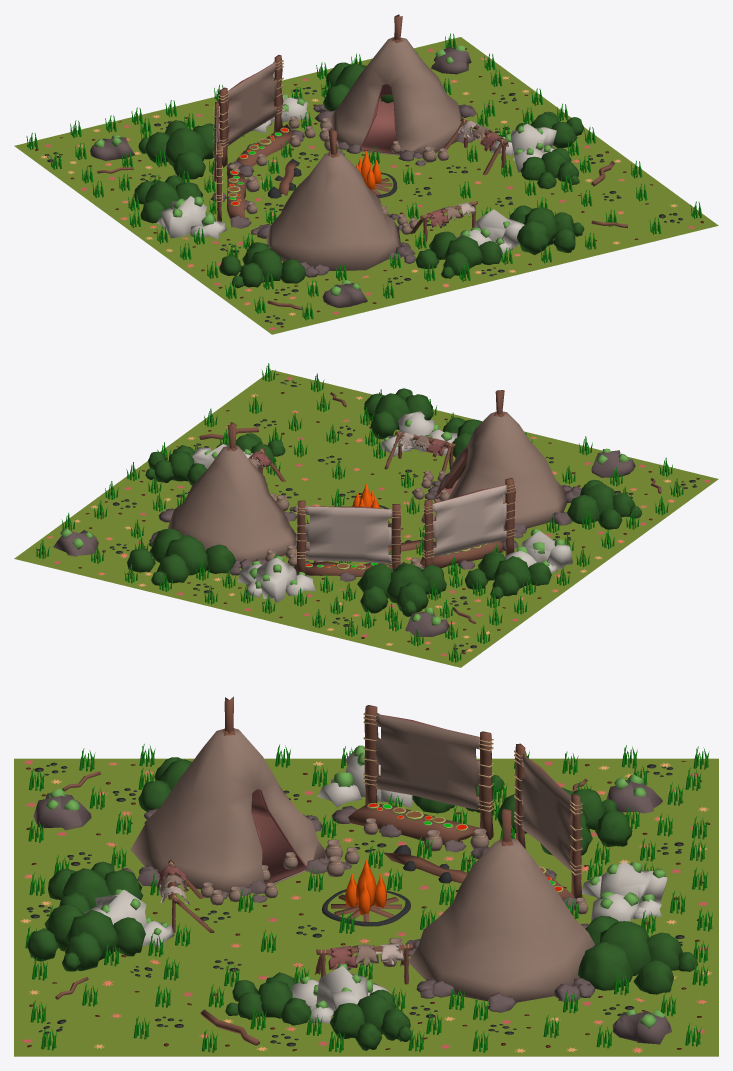
Rendered from grassland_hide_tents.glb.
3 views of the same model, one above another, from view 1: azimuth 30°, elevation 25°; view 2: azimuth 150°, elevation 25°; view 3: azimuth 270°, elevation 25° (orthographic). The views are drawn at different scales.
Visible parts, largest first — view 1: FlatGrass_Tile0.5x0.5; view 2: FlatGrass_Tile0.5x0.5; view 3: FlatGrass_Tile0.5x0.5.
Boxes of the visible parts, x1,y1,x2,y2 form: FlatGrass_Tile0.5x0.5: [14, 14, 718, 334]; FlatGrass_Tile0.5x0.5: [14, 363, 718, 667]; FlatGrass_Tile0.5x0.5: [14, 696, 718, 1056].
Bounding box in the file's own units: 2 × 0.5639 × 2.
